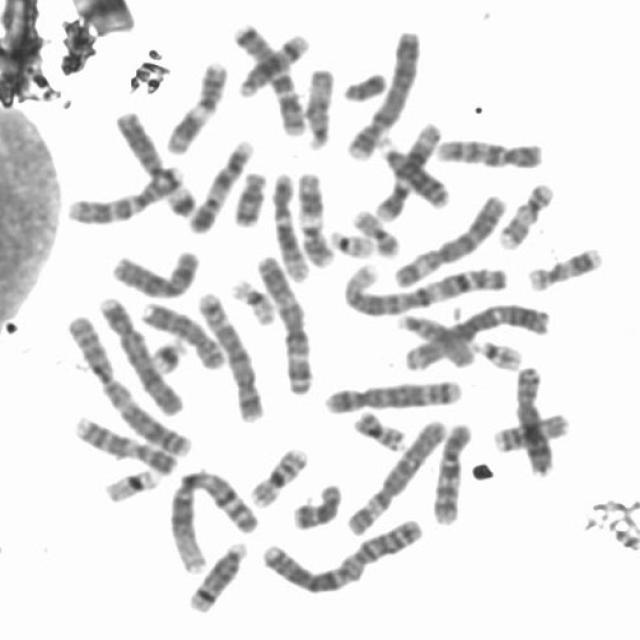A1: (168, 468, 258, 579), (341, 260, 508, 317)
A2: (69, 316, 191, 458), (262, 515, 424, 596)
A3: (402, 303, 554, 373), (256, 255, 316, 396)
B4: (96, 298, 184, 418), (346, 32, 421, 162)
B5: (193, 293, 265, 423), (326, 379, 463, 414)
C10: (431, 423, 476, 527), (435, 140, 543, 170)
C11: (164, 60, 233, 156), (298, 170, 334, 268)
C12: (375, 119, 443, 223), (270, 170, 312, 284)
C6: (345, 418, 448, 537), (392, 195, 506, 291)
C7: (232, 21, 306, 136), (69, 166, 188, 226)
C8: (138, 303, 226, 370), (514, 367, 557, 477)
C9: (76, 414, 178, 476), (190, 140, 254, 234)
D13: (375, 133, 452, 210), (114, 110, 180, 192)
D14: (186, 542, 253, 617), (238, 34, 314, 100)
D15: (392, 314, 476, 369), (304, 68, 336, 154)
E16: (248, 447, 308, 509), (492, 409, 569, 454)
E17: (523, 247, 604, 296), (499, 183, 556, 250)
E18: (291, 480, 341, 531), (234, 170, 267, 230)
F19: (232, 277, 278, 327), (104, 467, 162, 505)
F20: (351, 207, 398, 258), (351, 410, 405, 451)
G21: (153, 336, 187, 375), (165, 183, 198, 218)
G22: (470, 338, 520, 374), (330, 230, 374, 262)
X: (112, 248, 206, 300)
Y: (340, 71, 387, 101)
